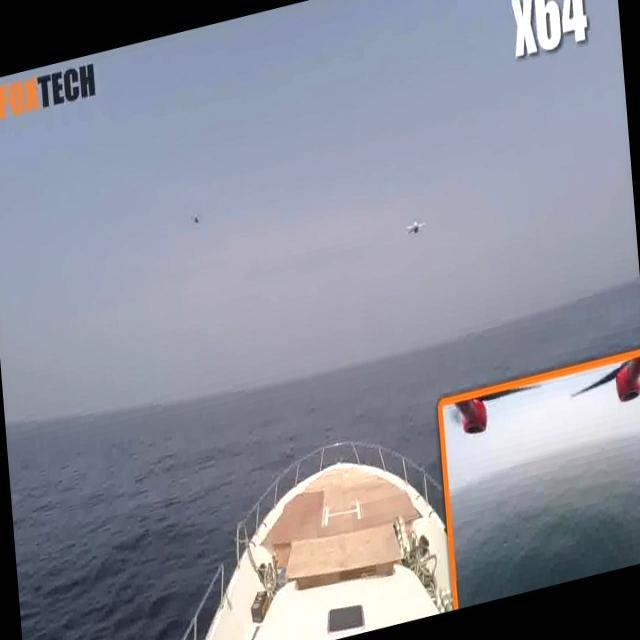drone: (397, 200, 435, 250), (188, 212, 208, 228)
